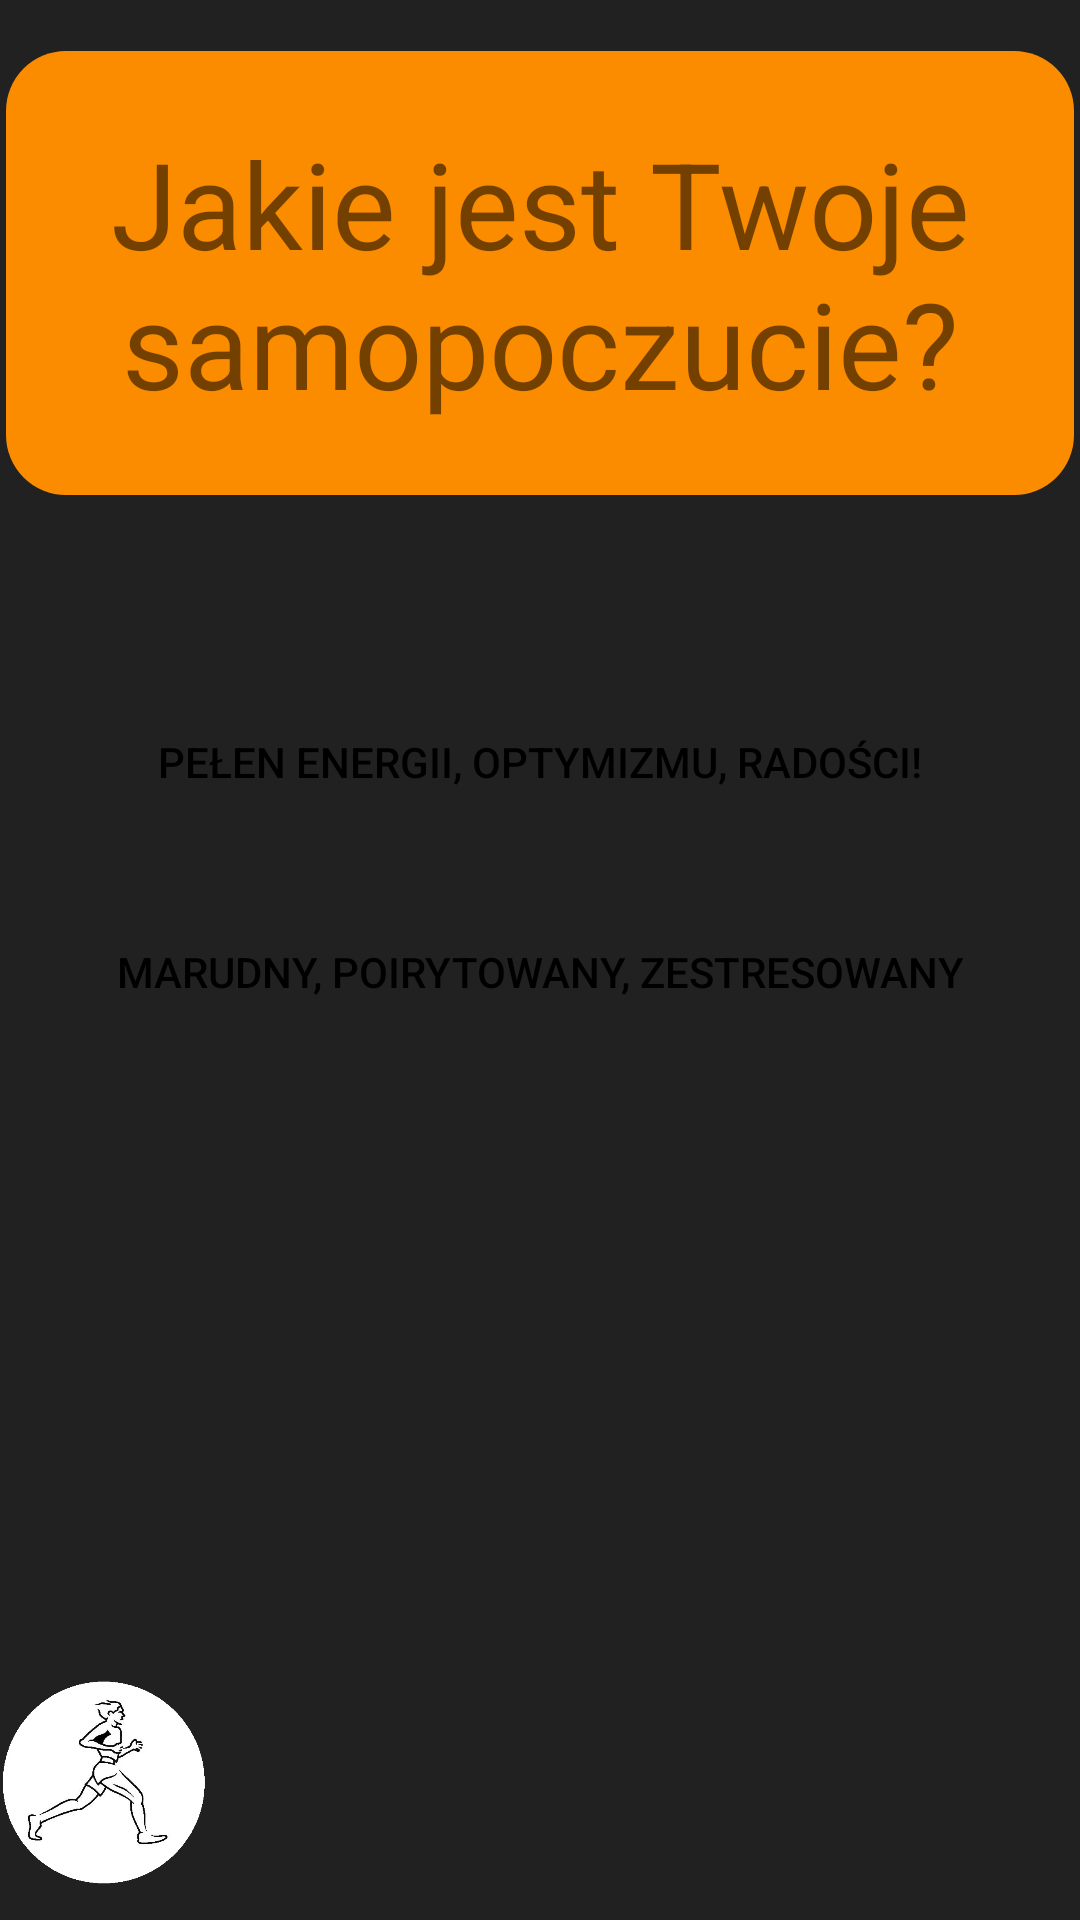

Icon bounding boxes for this 1080*1920 phone screenshot, format (x1, y1, x2, y2):
biegaczz: (3, 1681, 205, 1884)
